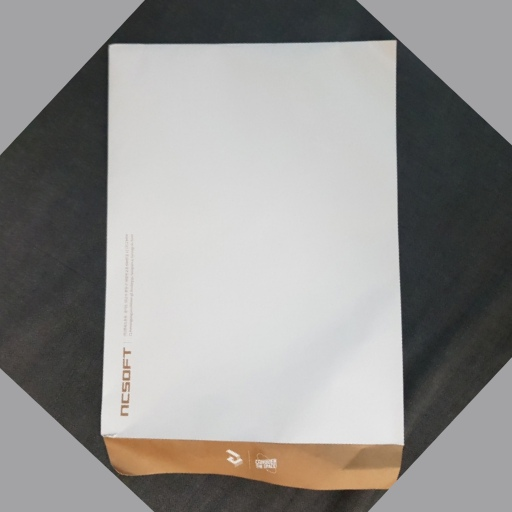Paper_2: (102, 38, 422, 490)
